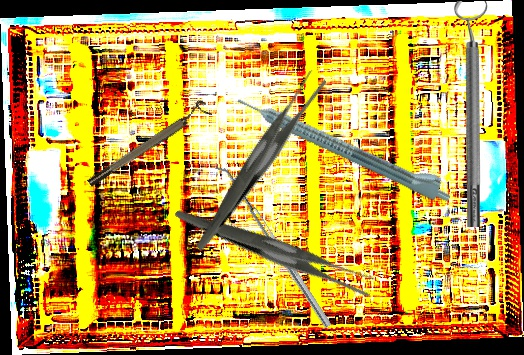Dressing Forceps: (153, 67, 363, 251), (174, 155, 380, 342)
Fixation Ring: (82, 98, 213, 189), (453, 1, 491, 227)
Handpiece: (233, 83, 458, 207)
Spatula Surgical: (213, 161, 332, 333)
